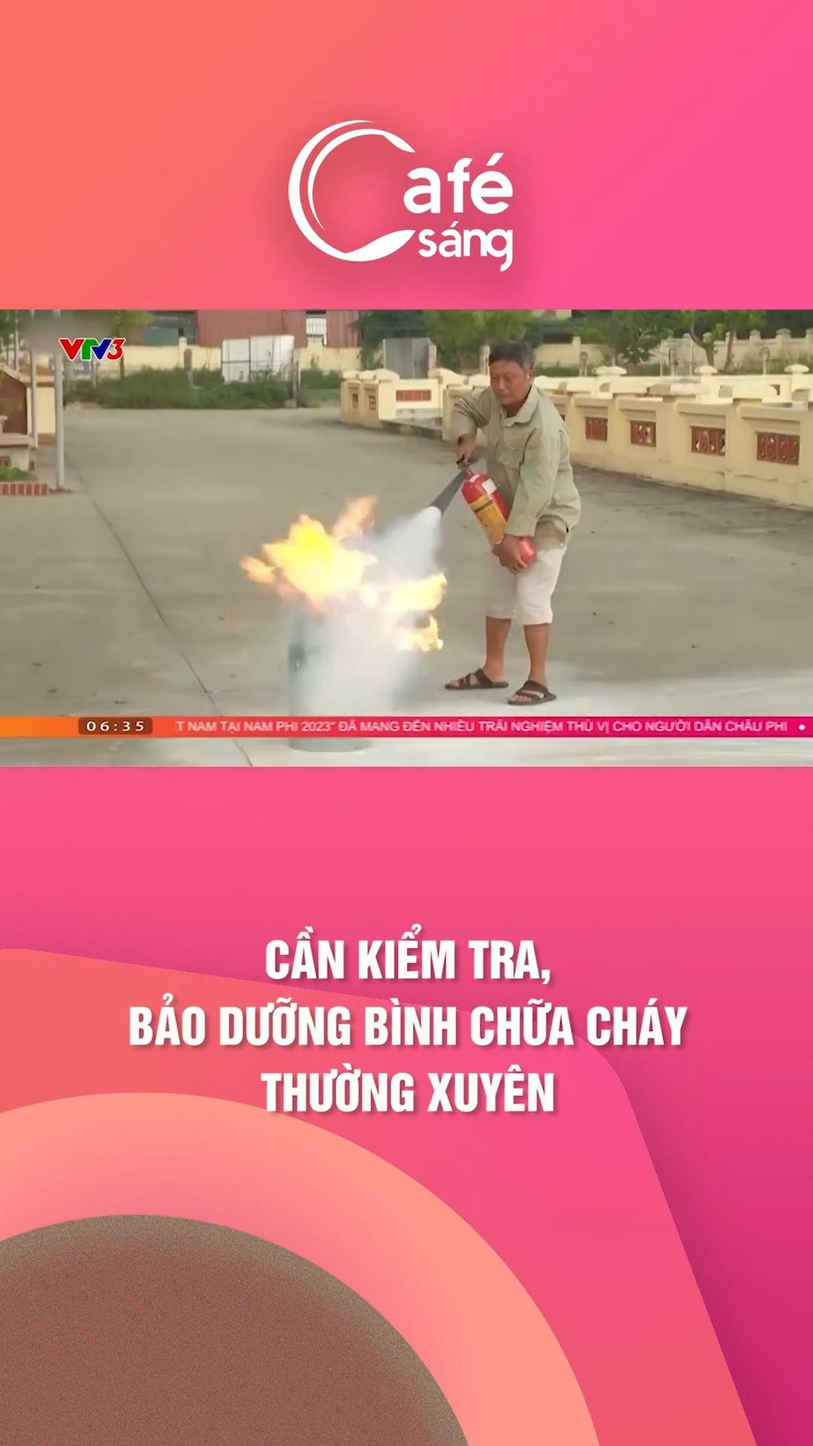FireExtinguisher: (441, 449, 544, 590)
